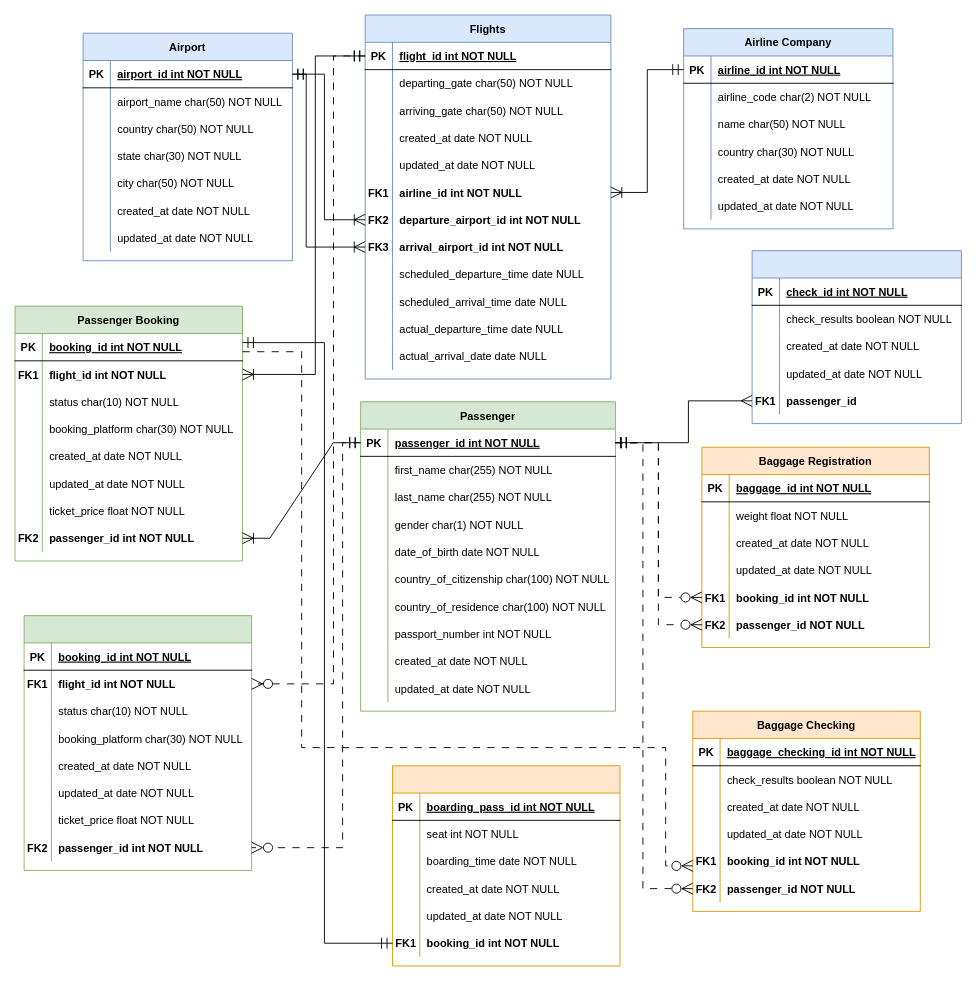
Image size: 976x981. Some labels were removed from this diagram. The shapes that lost their labels are listed below. From the top down, each one's box as (x1, y1, x2, y2) in pixels, then its label:
(751, 250, 961, 424): Airport Security Check
(23, 615, 252, 870): Booking Changes
(392, 765, 620, 966): Boarding Passes
